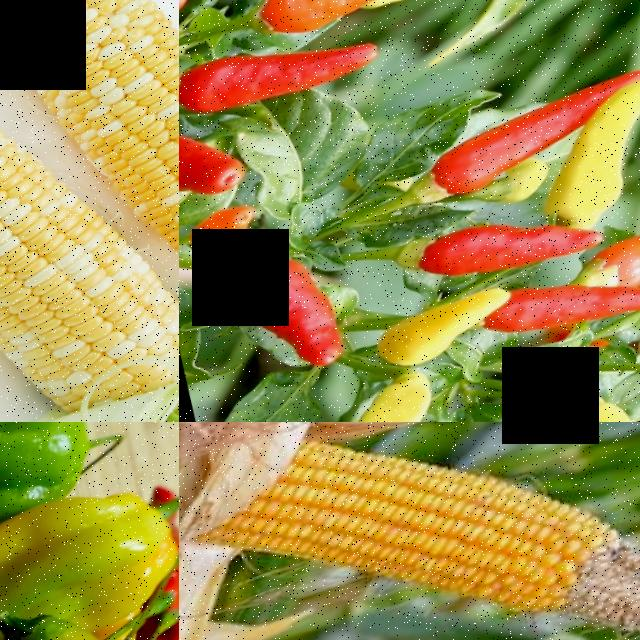chilli: (391, 187, 612, 320), (179, 0, 390, 138), (384, 90, 605, 219), (219, 225, 360, 398), (486, 253, 640, 370), (232, 0, 493, 49), (179, 94, 255, 218)
corn: (188, 422, 481, 612), (366, 448, 633, 640), (0, 181, 179, 422), (78, 28, 179, 323), (0, 0, 179, 141)
